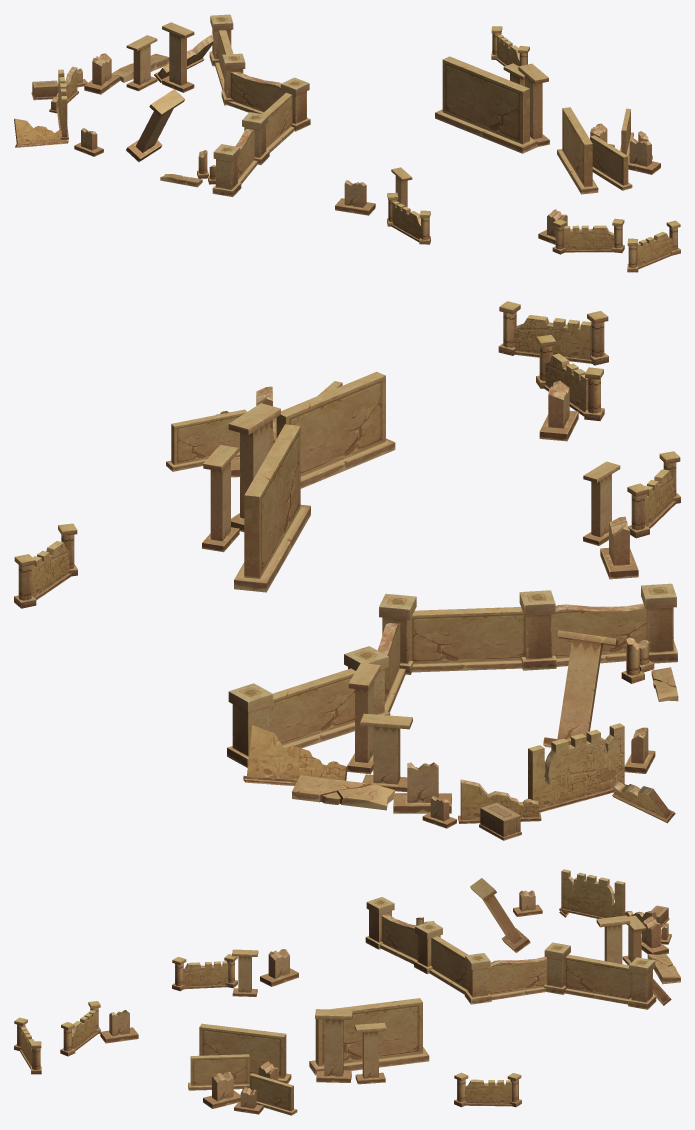
The model's file is qiangmian_04.fbx.
3 renders of one model, top to bottom at view 1: azimuth 30°, elevation 25°; view 2: azimuth 150°, elevation 25°; view 3: azimuth 270°, elevation 25°, orthographic. The views are drawn at different scales.
Parts seen in each view (by area): view 1: qiangmian_04; view 2: qiangmian_04; view 3: qiangmian_04.
Boxes of the visible parts, left/top/right/bottom form: qiangmian_04: left=14, top=14, right=680, bottom=272; qiangmian_04: left=14, top=301, right=680, bottom=840; qiangmian_04: left=14, top=869, right=680, bottom=1115.
Size of the model in its own units: 6915 by 1100 by 8633.
Materials: 1 (1 with a texture image).
